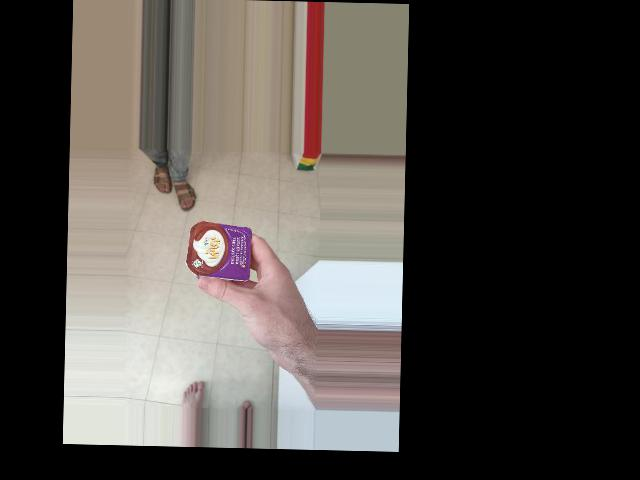milky: (195, 210, 256, 286)
